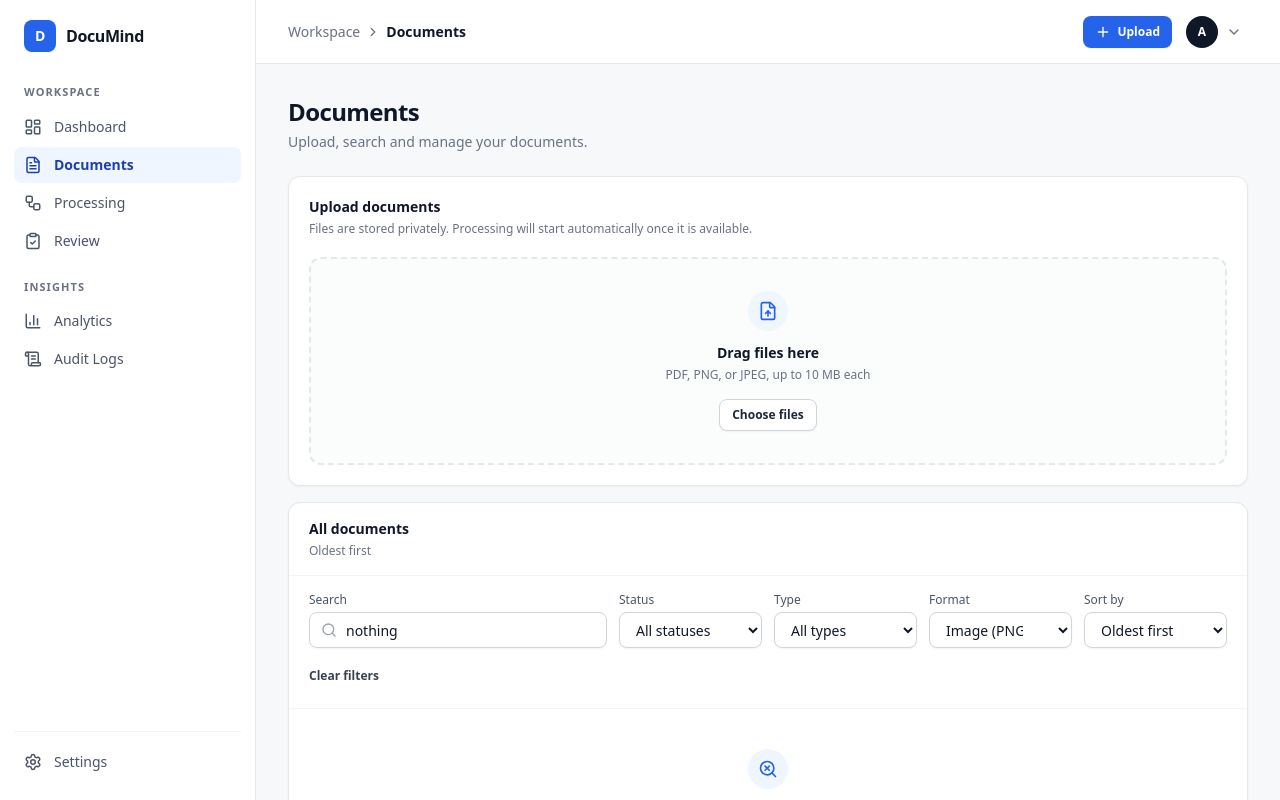
Test case: DocumentsPage › search, filters and sort › says when nothing matches and clears the filters on request
Expected: the heading "Documents" is shown, [288,95,419,128]
Expected: the text "No documents yet" is not shown
Step 1. Click the button "Clear filters" → (344, 676), box [297,660,391,692]
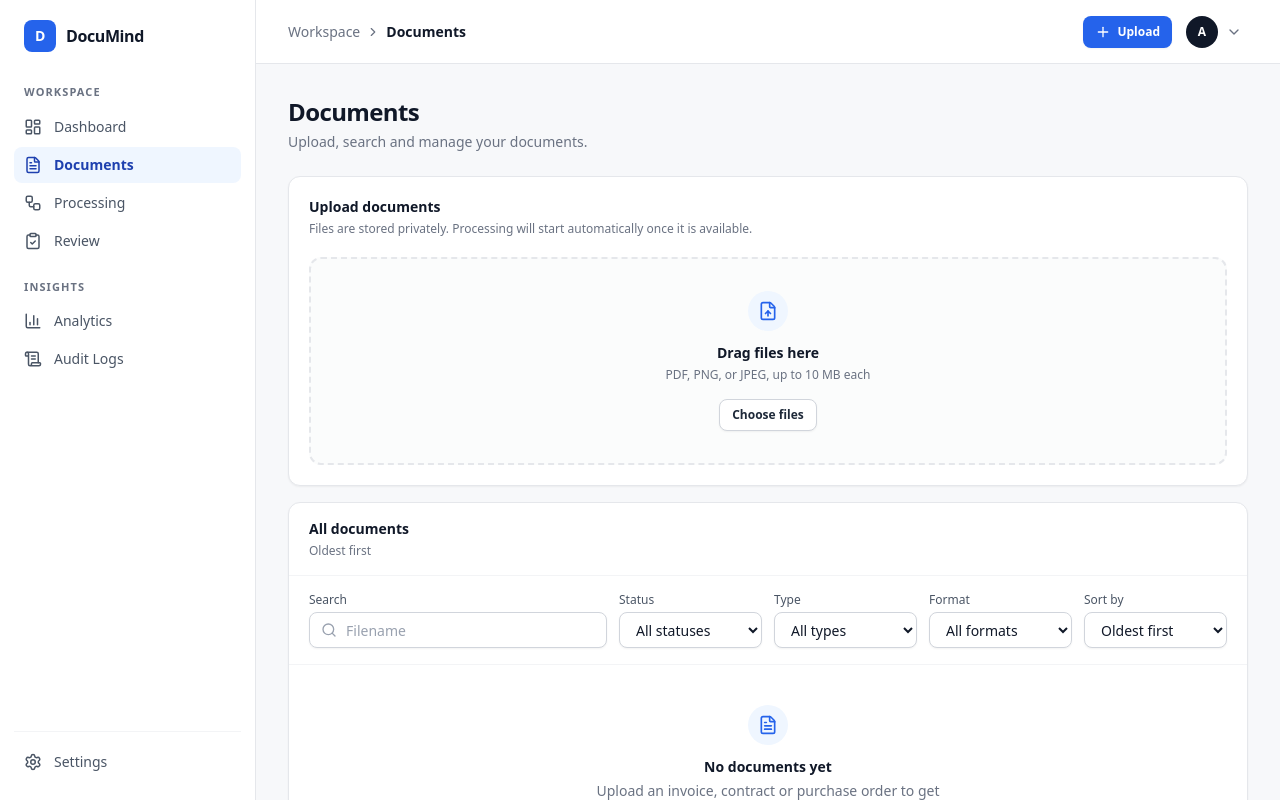
Expected: the search field labelled "Search" is empty, [309,612,607,648]
Expected: the text "No documents yet" is shown, [704,757,832,777]
